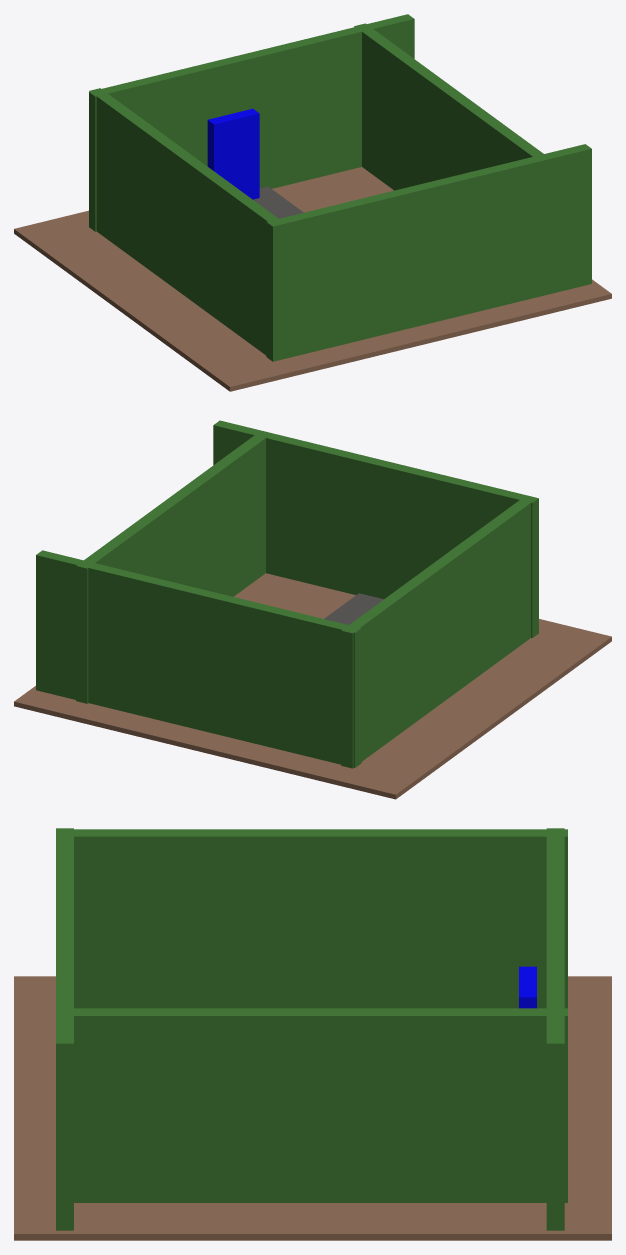
File: Opening.fbx
3 renders of one model, top to bottom at view 1: azimuth 30°, elevation 25°; view 2: azimuth 150°, elevation 25°; view 3: azimuth 270°, elevation 25°, orthographic. The views are drawn at different scales.
Parts seen in each view (by area): view 1: TreeWall2, TreeWall3, TreeWall, Ground, TreeWall1, TreeWall4, Pathway; view 2: TreeWall3, TreeWall2, TreeWall, Ground, TreeWall1, Pathway; view 3: TreeWall1, TreeWall, Ground, TreeWall3, TreeWall2, TreeWall4.
Part boxes in pixels (box(x1,y1,x2,y2)): TreeWall2: box(266, 144, 591, 361); TreeWall3: box(89, 14, 414, 231); TreeWall: box(89, 88, 283, 355); Ground: box(14, 167, 611, 391); TreeWall1: box(354, 23, 549, 190); TreeWall4: box(207, 108, 259, 199); Pathway: box(253, 186, 303, 218); TreeWall3: box(36, 550, 361, 767); TreeWall2: box(213, 420, 538, 637); TreeWall: box(341, 496, 535, 768); Ground: box(14, 573, 611, 799); TreeWall1: box(76, 431, 270, 703); Pathway: box(324, 593, 383, 624); TreeWall1: box(58, 1008, 567, 1202); TreeWall: box(58, 829, 567, 1008); Ground: box(14, 976, 611, 1240); TreeWall3: box(546, 828, 564, 1230); TreeWall2: box(56, 828, 73, 1230); TreeWall4: box(519, 966, 536, 1008).
Size of the model in its own units: 35.58 by 12.46 by 34.88.
